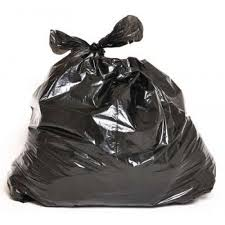Trash: (18, 14, 221, 209)
